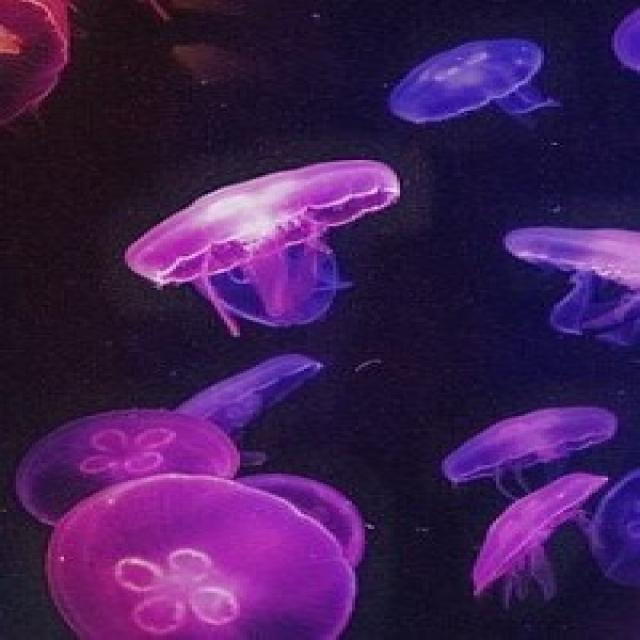Jellyfish: (23, 488, 407, 640), (125, 147, 409, 326), (496, 209, 640, 350), (8, 409, 243, 494), (450, 486, 598, 606), (434, 400, 627, 484), (392, 39, 565, 132), (0, 0, 80, 137), (191, 351, 347, 414), (604, 464, 640, 640)
